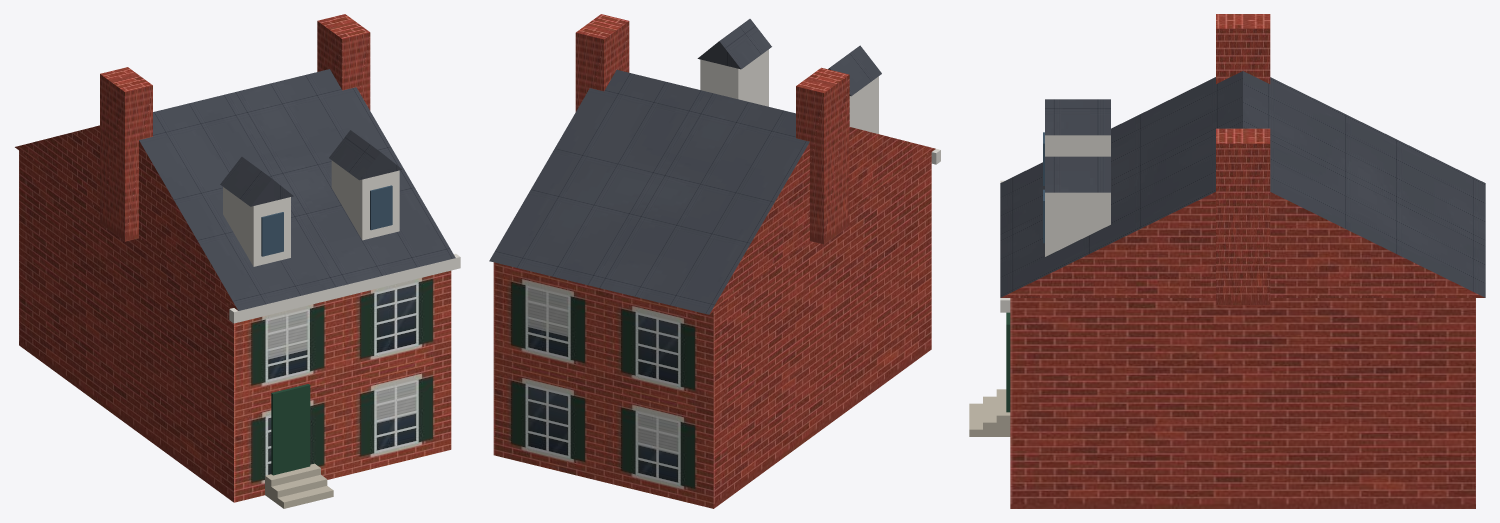
The model's file is 013_federal_rowhouse.glb.
The picture shows the model from 3 angles, left to right: view 1: azimuth 30°, elevation 25°; view 2: azimuth 150°, elevation 25°; view 3: azimuth 270°, elevation 25°; orthographic projection. The views are drawn at different scales.
Parts seen in each view (by area): view 1: 013_federal_rowhouse; view 2: 013_federal_rowhouse; view 3: 013_federal_rowhouse.
Part boxes in pixels (bbox=[...]): 013_federal_rowhouse: bbox=[15, 14, 460, 508]; 013_federal_rowhouse: bbox=[489, 14, 940, 508]; 013_federal_rowhouse: bbox=[969, 14, 1485, 508].
Bounding box in the file's own units: 7.9 × 10.6 × 13.3.
Materials: 7 (3 with a texture image).
